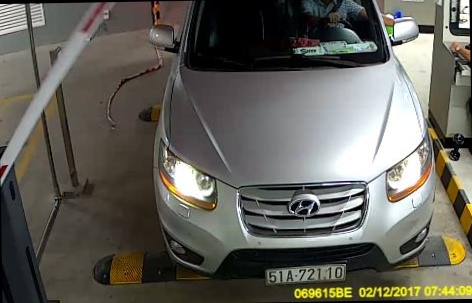plate: (254, 256, 357, 287)
